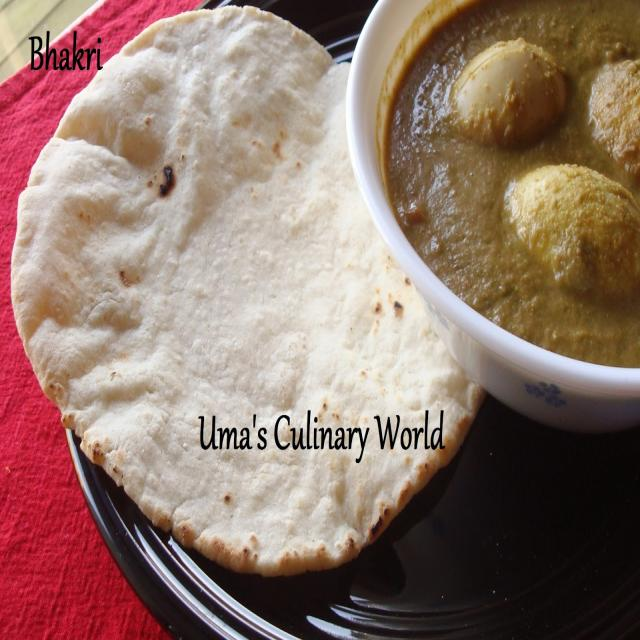RICE BHAKRI: (8, 2, 481, 574)
